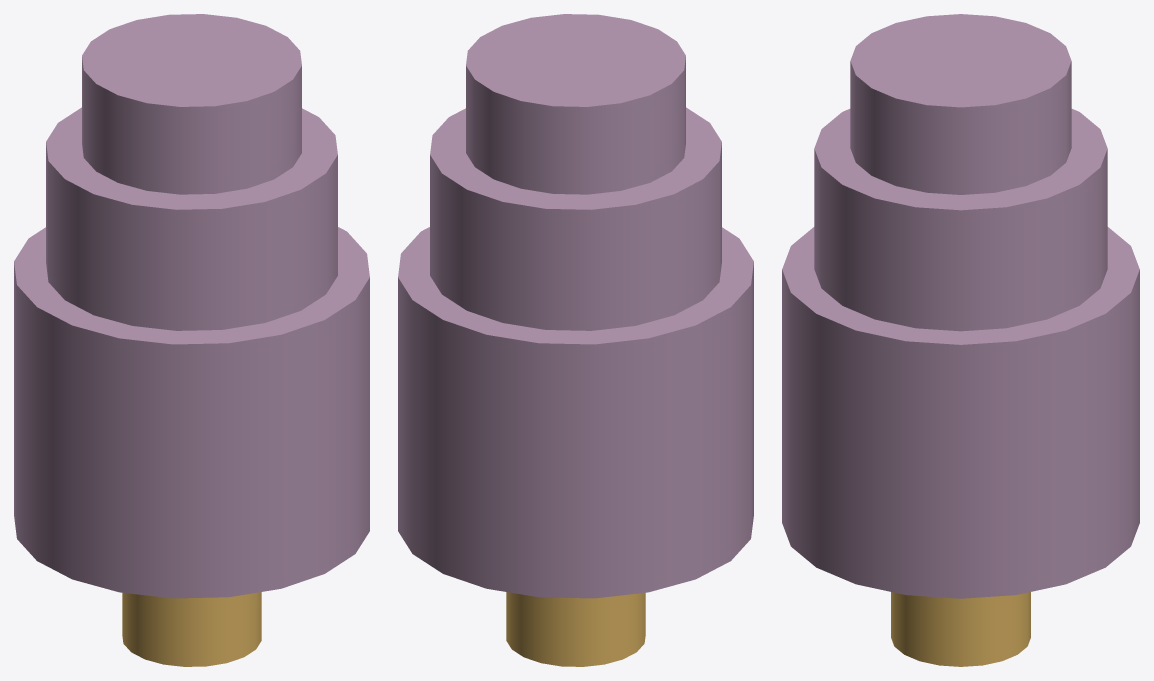
The model's file is cilindros_roxo.fbx.
3 views of the same model, side by side, from view 1: azimuth 30°, elevation 25°; view 2: azimuth 150°, elevation 25°; view 3: azimuth 270°, elevation 25° (orthographic).
Parts seen in each view (by area): view 1: pCylinder9, pCylinder8, pCylinder7, arvore30; view 2: pCylinder9, pCylinder8, pCylinder7, arvore30; view 3: pCylinder9, pCylinder8, pCylinder7, arvore30.
Part boxes in pixels (box(x1,y1,x2,y2)): pCylinder9: box(14, 227, 369, 598); pCylinder8: box(46, 107, 337, 330); pCylinder7: box(82, 14, 301, 194); arvore30: box(122, 592, 261, 666); pCylinder9: box(398, 227, 753, 598); pCylinder8: box(430, 107, 721, 330); pCylinder7: box(466, 14, 685, 194); arvore30: box(506, 592, 645, 666); pCylinder9: box(782, 227, 1139, 598); pCylinder8: box(814, 109, 1107, 331); pCylinder7: box(850, 14, 1071, 194); arvore30: box(891, 592, 1030, 666).
Bounding box in the file's own units: 1.72 × 3.06 × 1.72.
